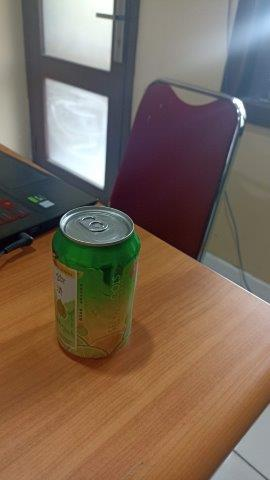kaleng: (51, 206, 141, 363)
